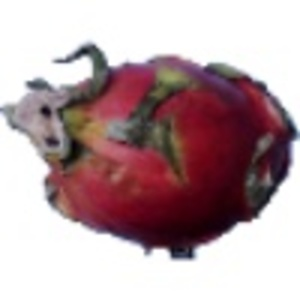pitaia: (1, 40, 300, 262)
